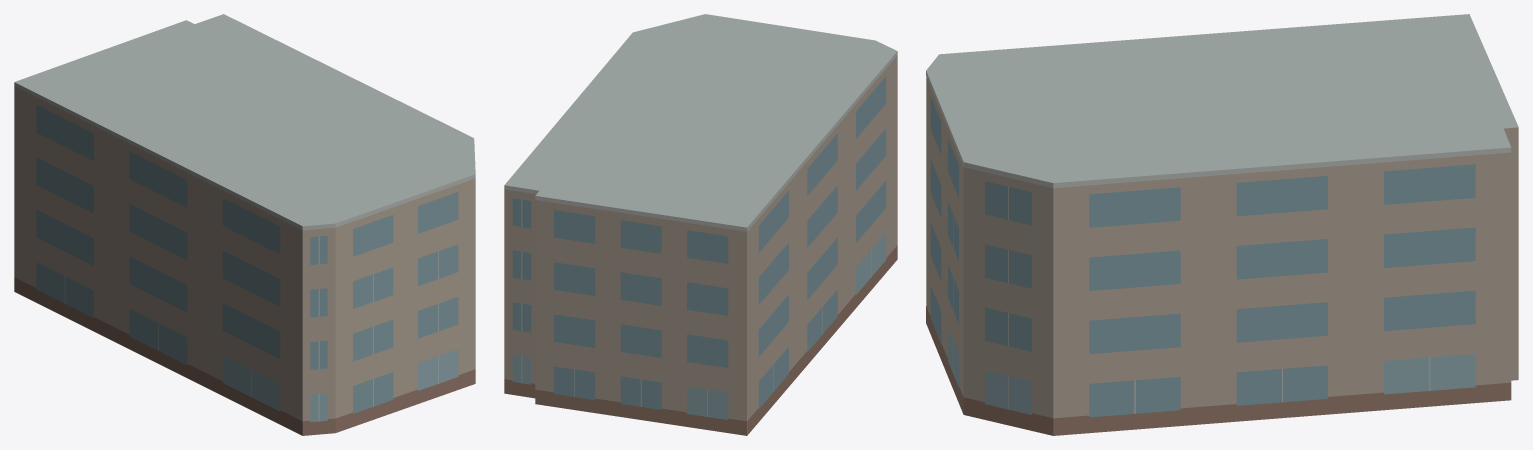
File: survey-upis-32708459.glb
3 views of the same model, side by side, from view 1: azimuth 30°, elevation 25°; view 2: azimuth 150°, elevation 25°; view 3: azimuth 270°, elevation 25° (orthographic). The views are drawn at different scales.
Parts seen in each view (by area): view 1: survey-upis-32708459.tmp; view 2: survey-upis-32708459.tmp; view 3: survey-upis-32708459.tmp.
Boxes of the visible parts, bbox=[...] form: survey-upis-32708459.tmp: bbox=[14, 14, 475, 435]; survey-upis-32708459.tmp: bbox=[504, 14, 897, 435]; survey-upis-32708459.tmp: bbox=[926, 14, 1518, 435].
Bounding box in the file's own units: 17.52 × 12.2 × 25.94.
